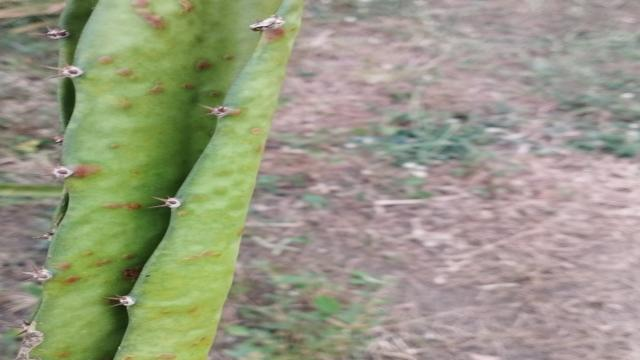stemcanker: (104, 0, 251, 77), (65, 134, 159, 192), (105, 72, 200, 126), (52, 250, 140, 295), (95, 185, 151, 232)
